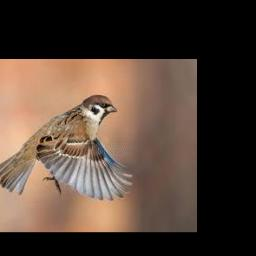Sparrow: (0, 95, 132, 200)
